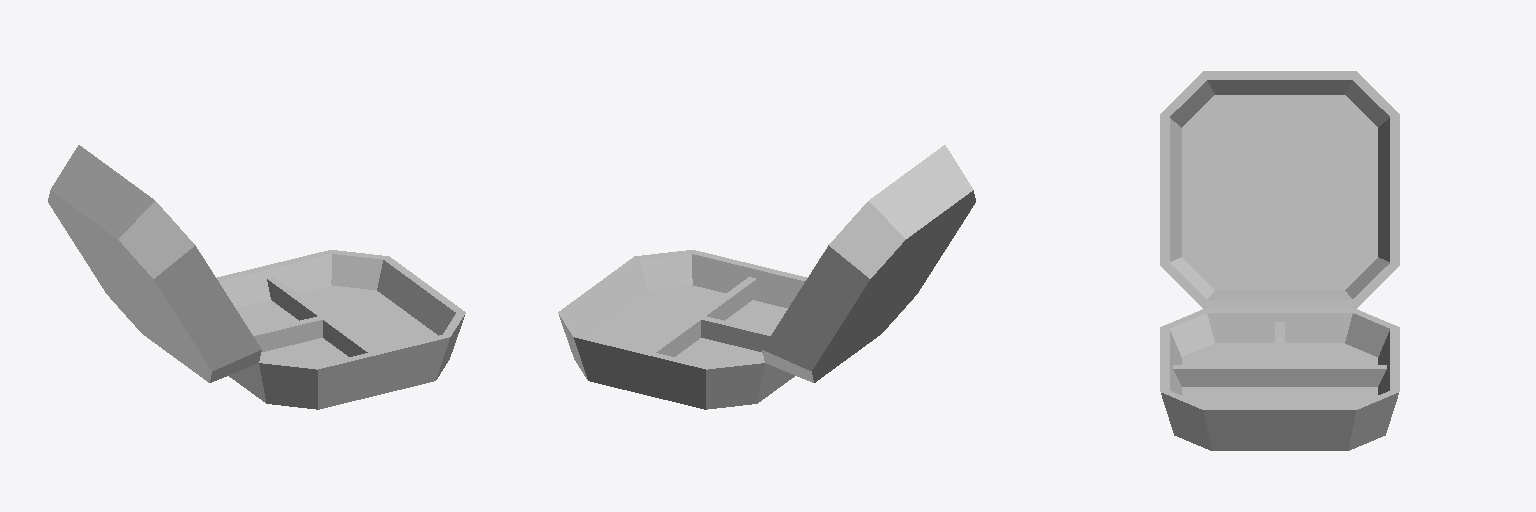
File: styrofoam.obj
3 views of the same model, side by side, from view 1: azimuth 30°, elevation 25°; view 2: azimuth 150°, elevation 25°; view 3: azimuth 270°, elevation 25° (orthographic).
Parts seen in each view (by area): view 1: styrofoam, lid; view 2: styrofoam, lid; view 3: lid, styrofoam.
Part boxes in pixels (x1,y1,x2,y2): styrofoam: (217,250,465,409); lid: (48,145,261,382); styrofoam: (558,250,806,409); lid: (762,145,975,382); lid: (1160,71,1399,308); styrofoam: (1160,309,1399,450).
Bounding box in the file's own units: 1.26 × 0.822 × 0.7589.